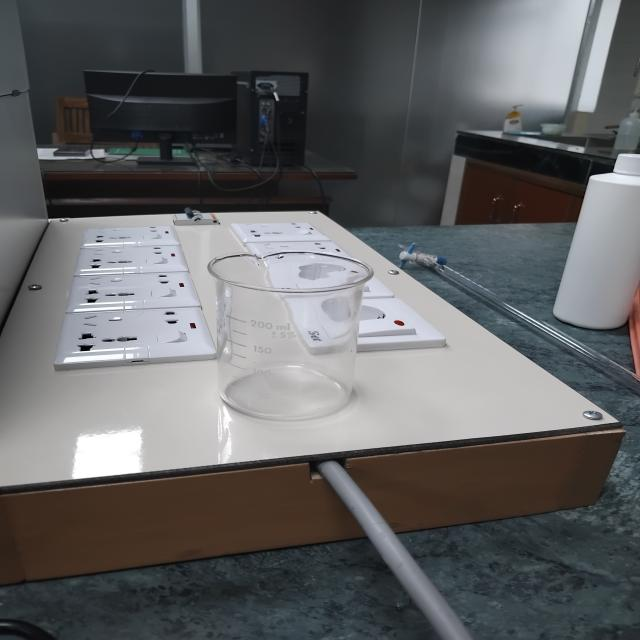Beaker: (182, 233, 425, 436)
